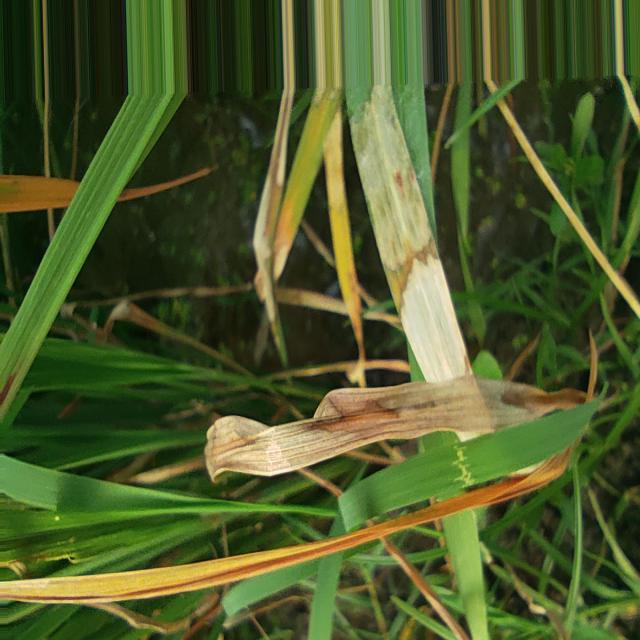Leaf_Blast: (0, 450, 570, 603)
Rice False Smut: (348, 85, 471, 382), (254, 92, 291, 363), (205, 415, 321, 478)
